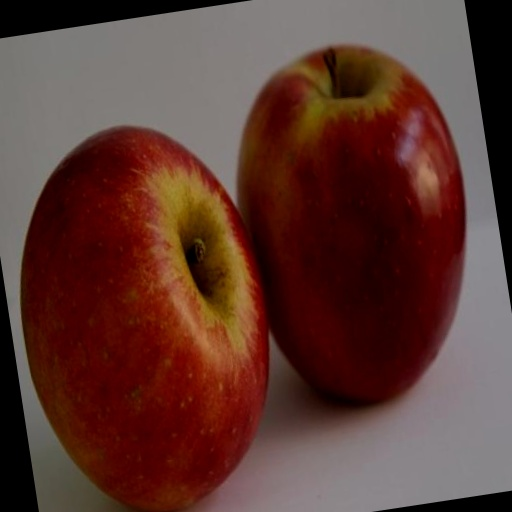fruit: (21, 127, 267, 511), (237, 47, 464, 400)
